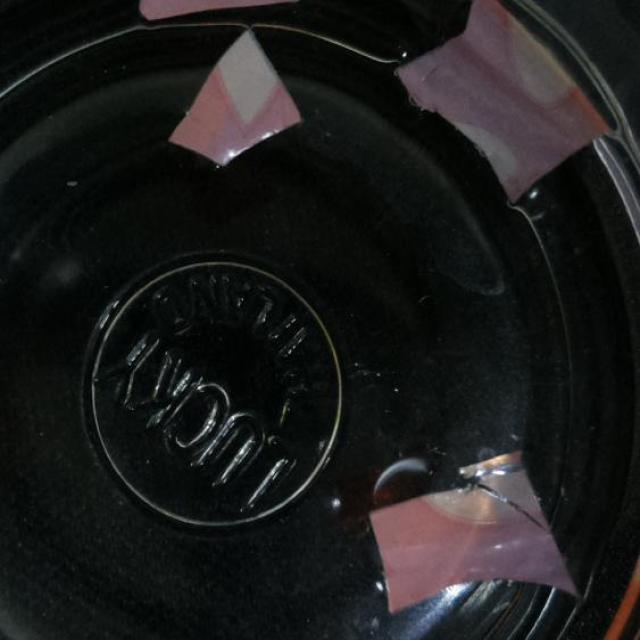fiber: (391, 0, 621, 217), (366, 446, 588, 620), (168, 30, 305, 179), (132, 0, 310, 27)
